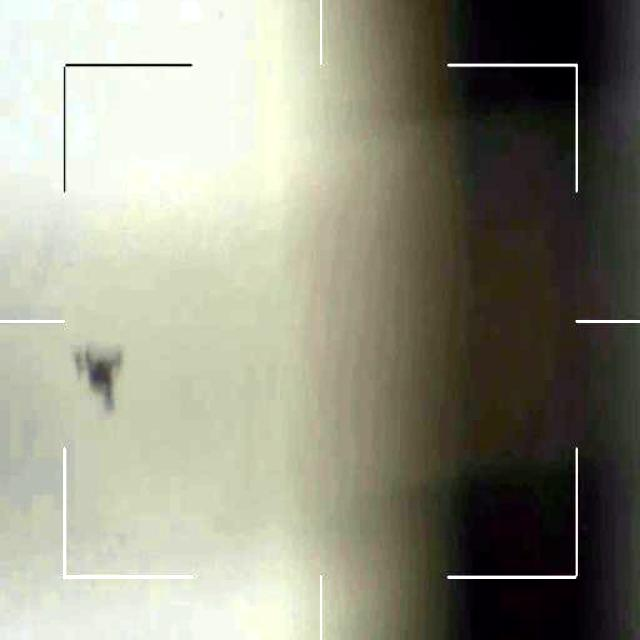bird: (68, 338, 128, 414)
